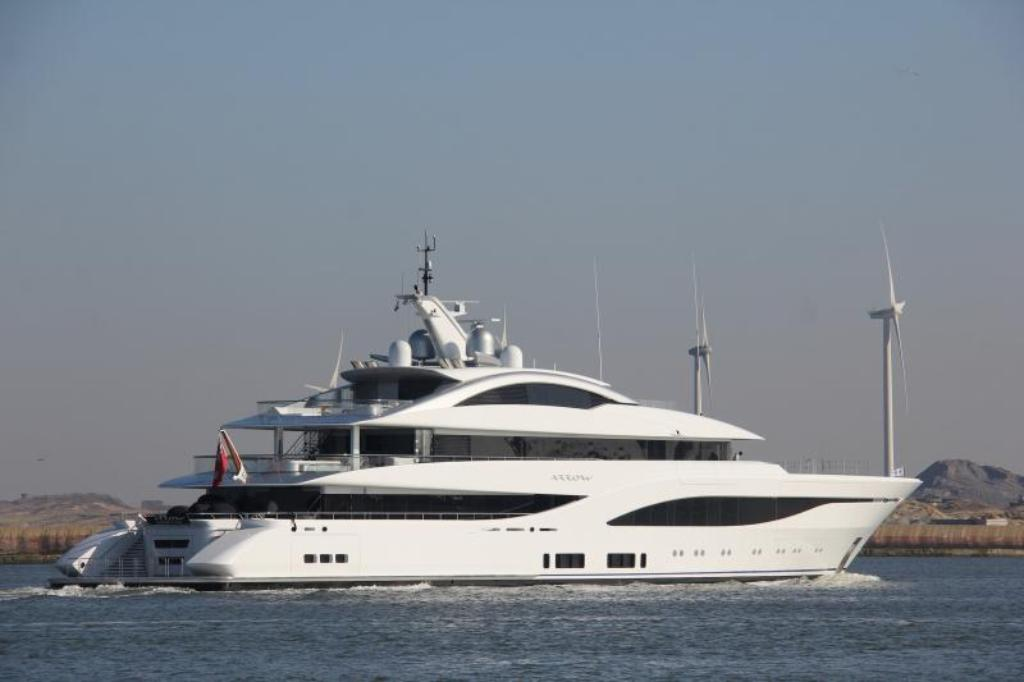PassengerShip: (44, 225, 924, 601)
